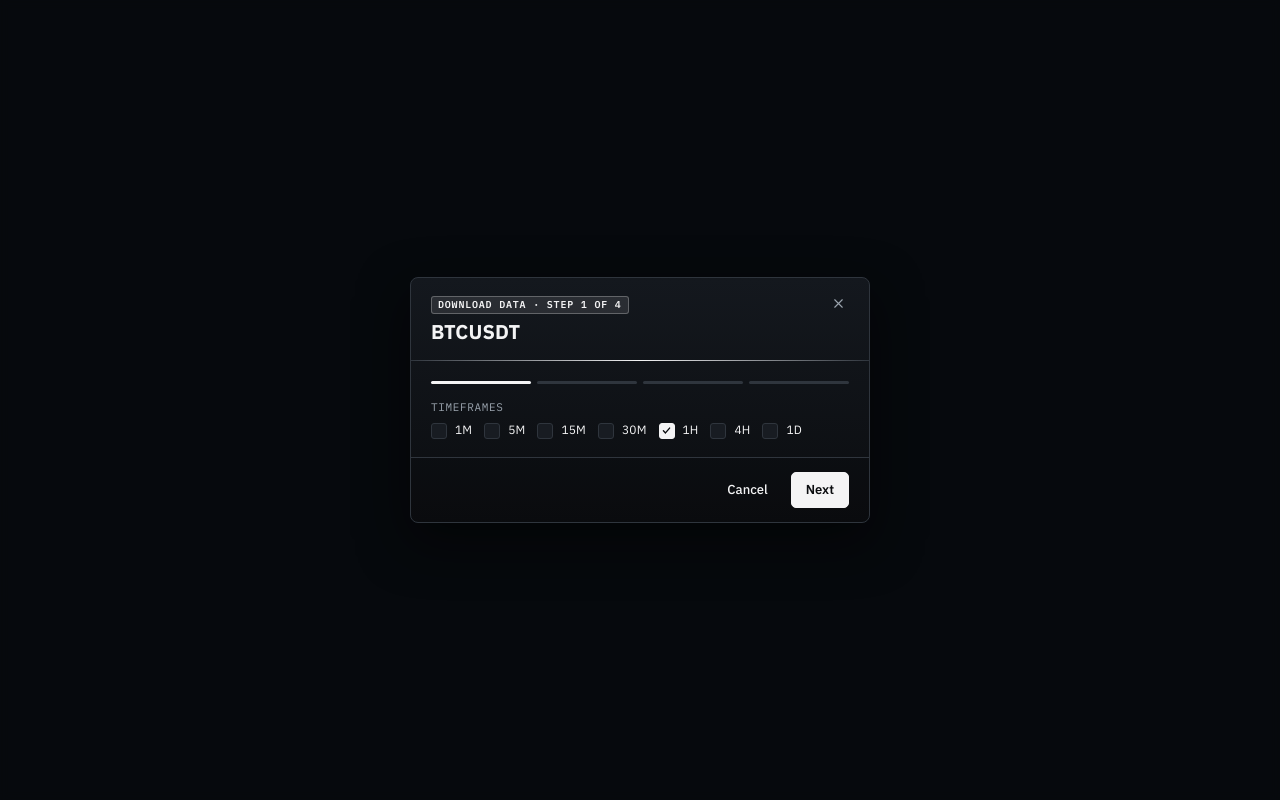
Test case: Adversarial Stress Harness: Milestone 2 (Migrated Modals) › DownloadWizard: Multi-Step Interaction & Dismissal Invariants › ADVERSARIAL INVARIANT: downloading state strictly blocks dismissal (Escape, backdrop, no close button)
The image size is (1280, 800).
Later steps or results of the test are not shown.
Click the button "Next".
click(820, 490)  # box [791, 472, 849, 508]
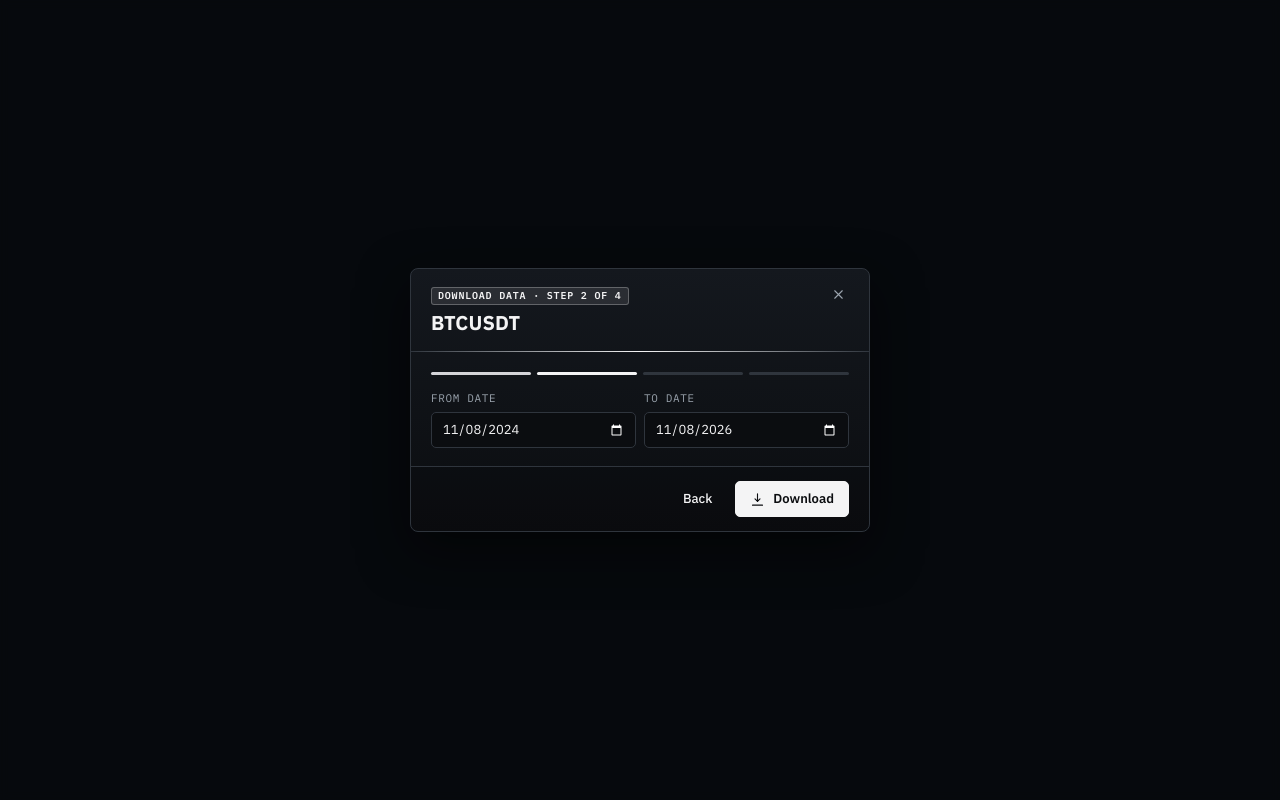
Click the button "Download".
click(792, 499)  # box [735, 481, 849, 517]
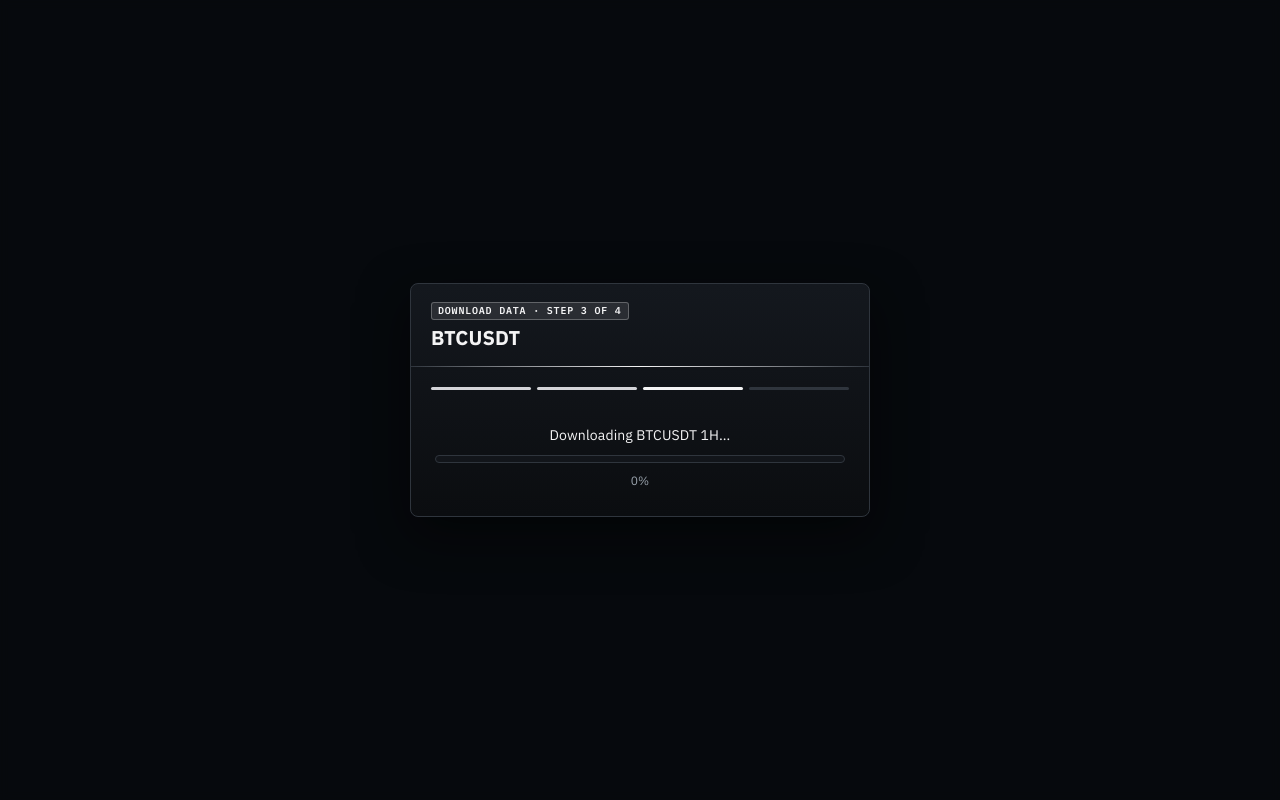
Check: the text "Download data · Step 3 of 4" is shown, box [438, 306, 622, 316]
Check: the text "Downloading BTCUSDT 1H…" is shown, box [550, 426, 730, 445]
Check: the button "Close" is gone
Note: Invariant 3: Escape key MUST NOT trigger onClose
Press Escape
Note: Invariant 4: Clicking backdrop MUST NOT trigger onClose
Press the mouse on the dialog with class "ui-modal-backdrop" at (640, 400), box [0, 0, 1279, 799]
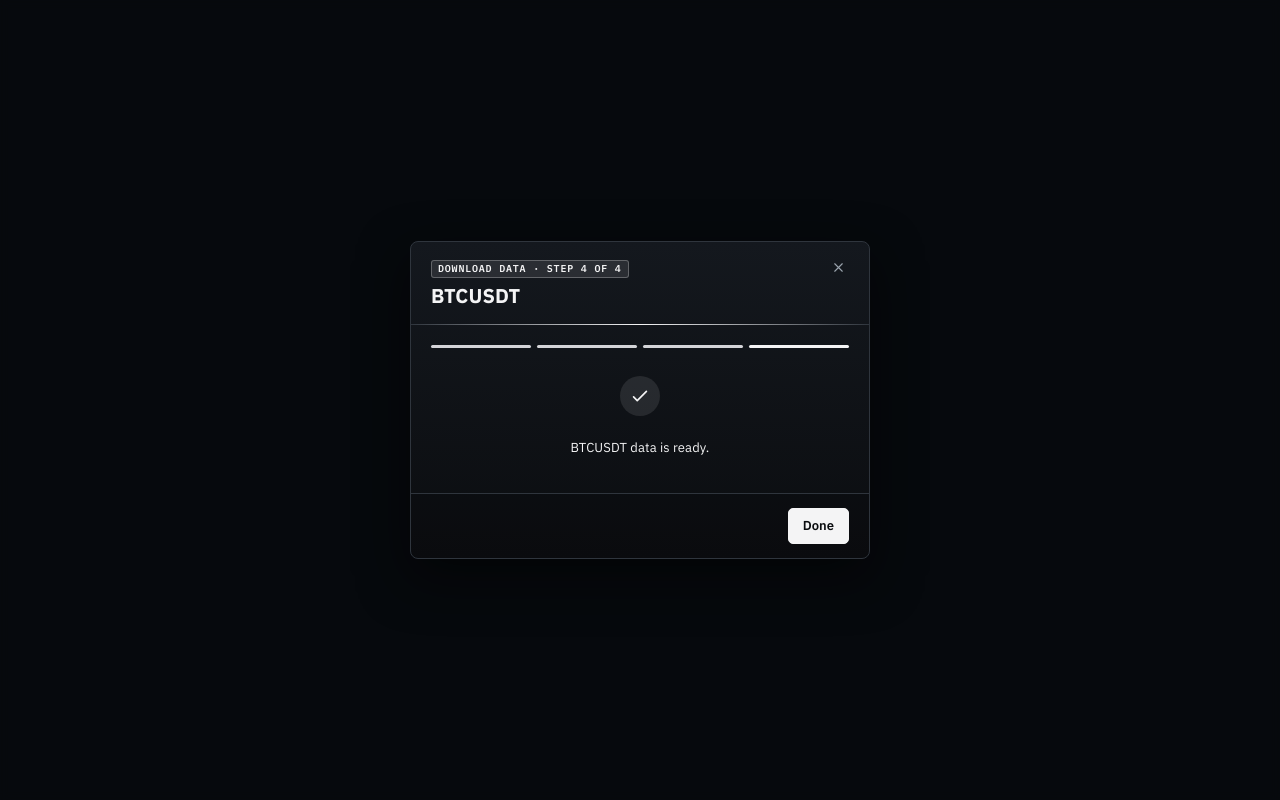
Check: the text "Download data · Step 4 of 4" is shown, box [438, 264, 622, 274]
Check: the text "BTCUSDT data is ready." is shown, box [571, 439, 710, 458]
Check: the button "Done" is shown, box [788, 508, 849, 544]
